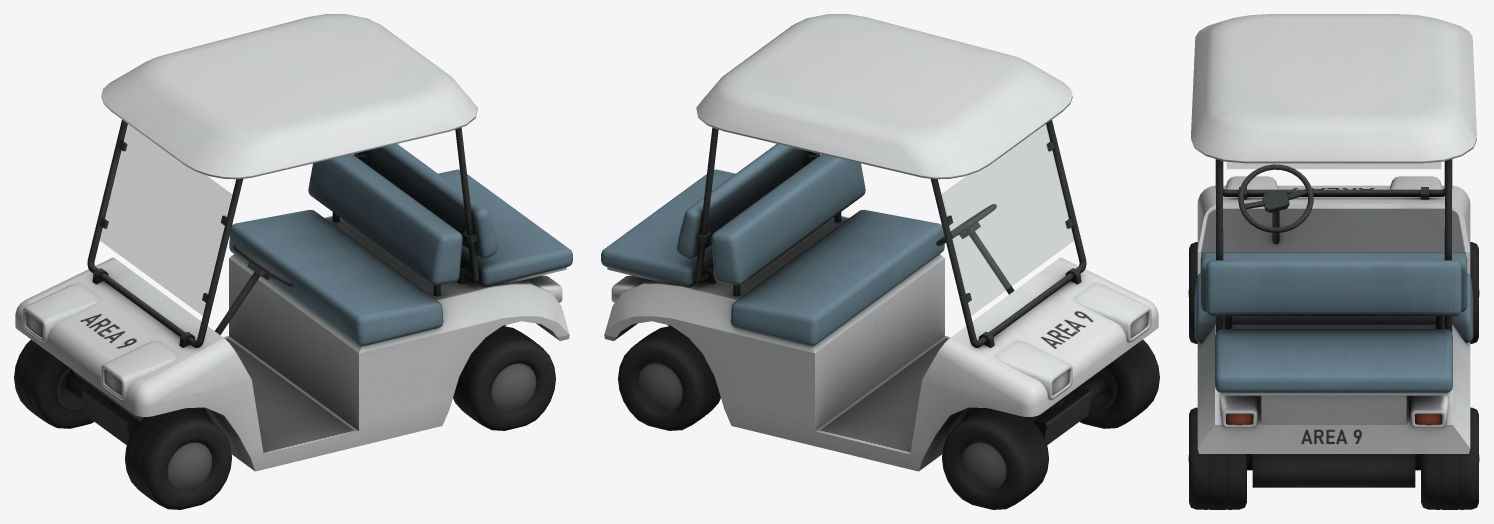
Rendered from area_9_golf_cart.glb.
3 views of the same model, side by side, from view 1: azimuth 30°, elevation 25°; view 2: azimuth 150°, elevation 25°; view 3: azimuth 270°, elevation 25° (orthographic). The views are drawn at different scales.
Parts seen in each view (by area): view 1: golfcart; view 2: golfcart; view 3: golfcart.
Part boxes in pixels (x1=…): golfcart: x1=14, y1=14, x2=572, y2=509; golfcart: x1=601, y1=14, x2=1159, y2=509; golfcart: x1=1188, y1=14, x2=1479, y2=509.
Size of the model in its own units: 123 by 90.4 by 66.23.
Materials: 2 (2 with a texture image).
